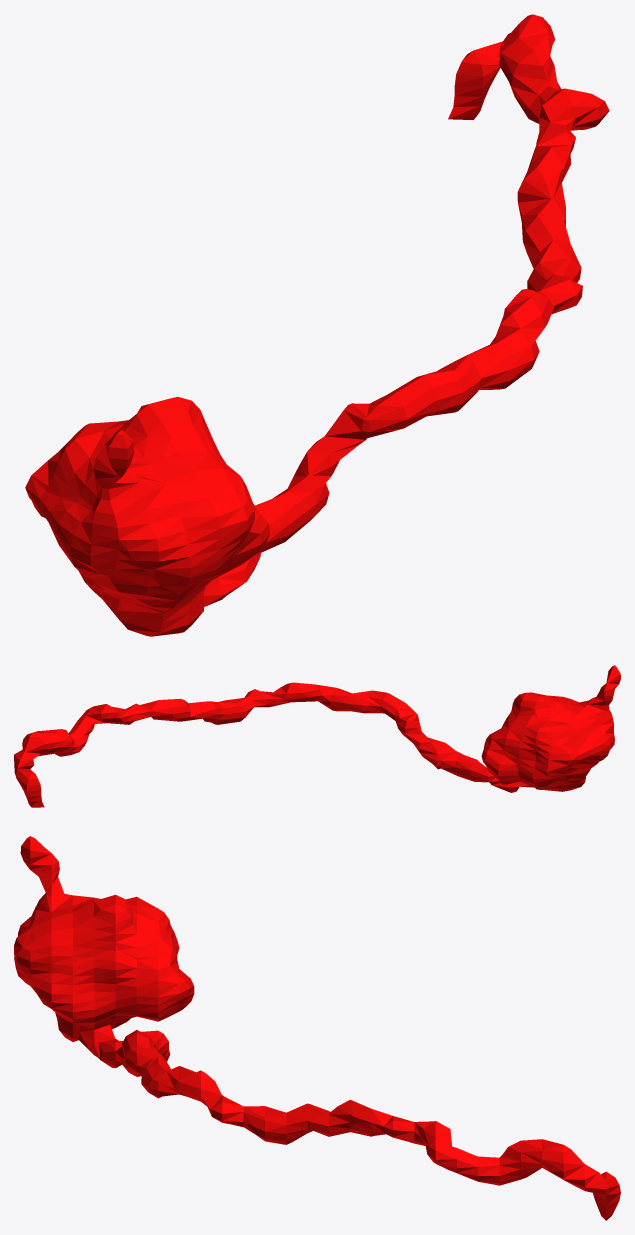
Rendered from cfa_coarse.dae.
3 views of the same model, one above another, from view 1: azimuth 30°, elevation 25°; view 2: azimuth 150°, elevation 25°; view 3: azimuth 270°, elevation 25° (orthographic). The views are drawn at different scales.
Visible parts, largest first — view 1: cfa; view 2: cfa; view 3: cfa.
Part boxes in pixels (left/top/right/bottom): cfa: left=25, top=14, right=609, bottom=636; cfa: left=14, top=665, right=620, bottom=807; cfa: left=14, top=836, right=620, bottom=1220.
Size of the model in its own units: 212 by 60.34 by 190.
